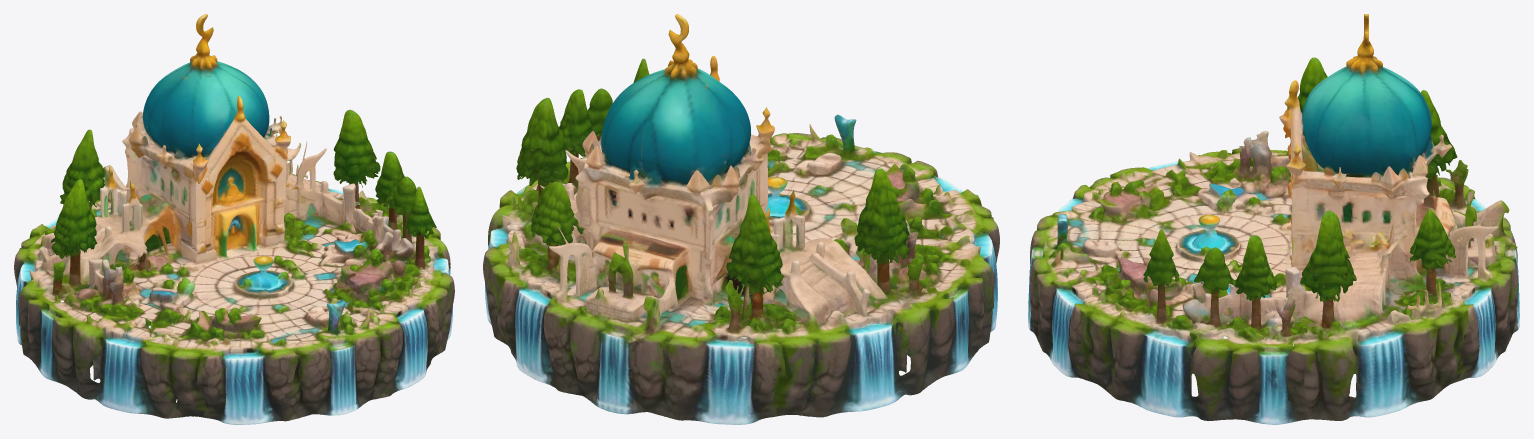
Rendered from meshy-pulauquran.glb.
The picture shows the model from 3 angles, left to right: view 1: azimuth 30°, elevation 25°; view 2: azimuth 150°, elevation 25°; view 3: azimuth 270°, elevation 25°; orthographic projection. The views are drawn at different scales.
Size of the model in its own units: 1.9 by 1.35 by 1.9.
1 material, 1 textured.
